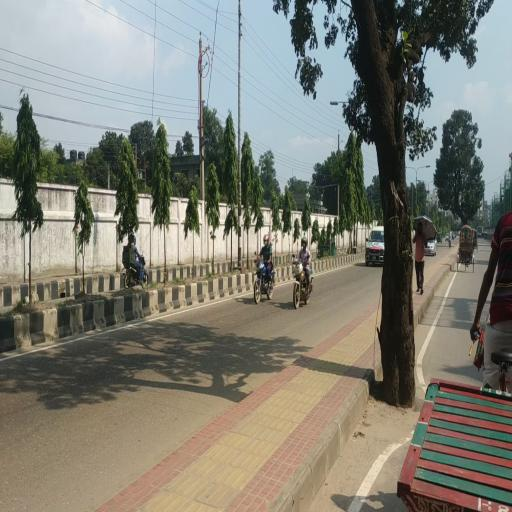minivan: (366, 226, 385, 265)
motorbike: (292, 257, 315, 310), (255, 255, 277, 306), (123, 254, 150, 290)
rickshaw: (457, 226, 476, 274)
wheelbarrow: (398, 376, 512, 512)
